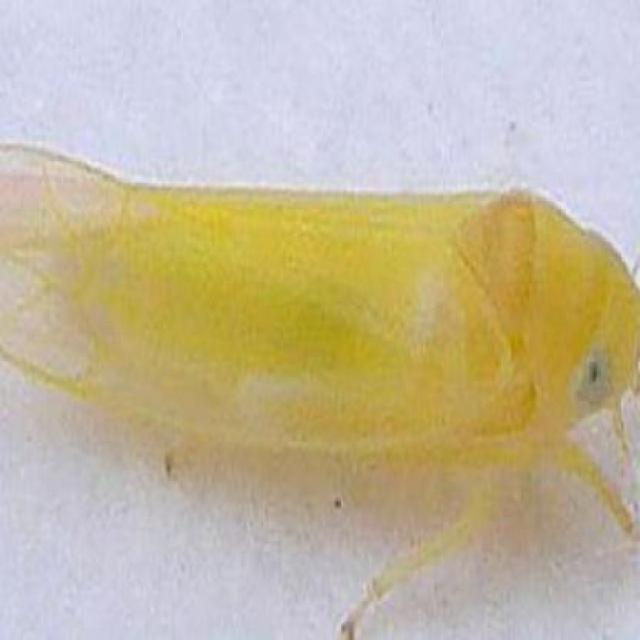green-leafhopper: (1, 173, 632, 475)
